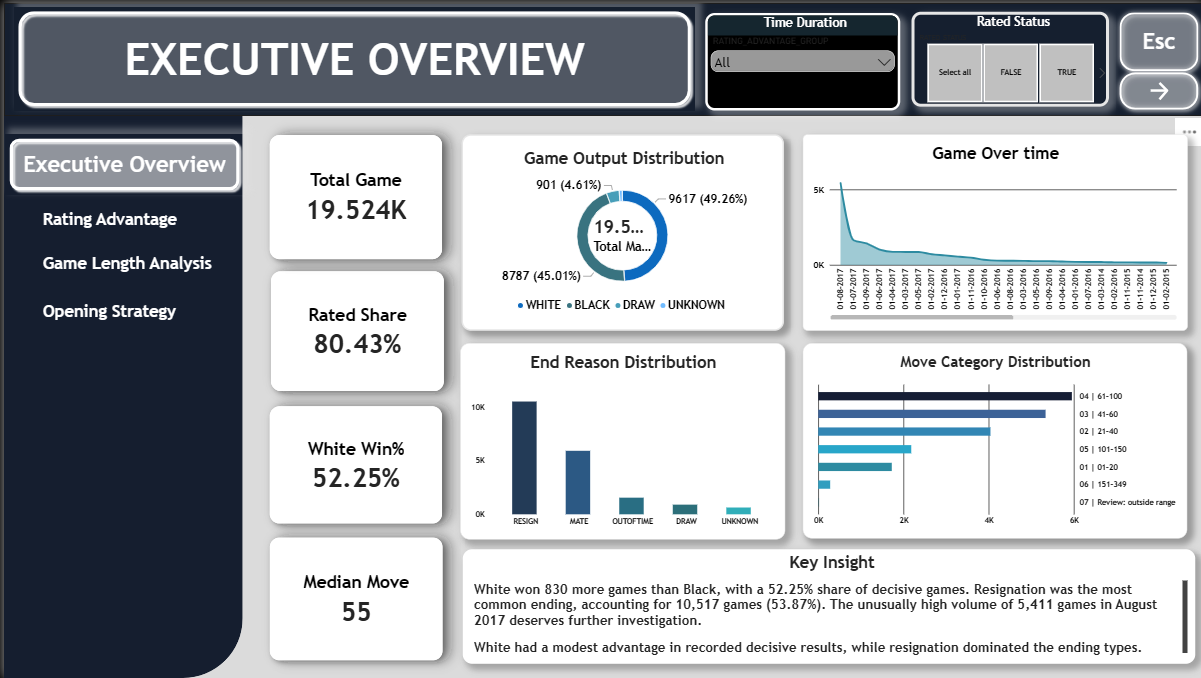

What the dashboard file says about the page in this screenshot:
{"tool":"powerbi","page":{"name":"EXECUTIVE_OVERVIEW","canvas":[1920,1080],"ordinal":0},"visuals":[{"type":"shape","box":[0,0,256.7,1080],"z":0},{"type":"shape","box":[0,0,382,1080],"z":1000},{"type":"shape","box":[0,0,1921.1,181.1],"z":2000},{"type":"textbox","box":[46,48,1096,88],"z":3000},{"type":"textbox","box":[62,330,246,38],"z":4000},{"type":"textbox","box":[62,400,304,40],"z":5000},{"type":"textbox","box":[62,478,278,46],"z":6000},{"type":"slicer","title":"Time Duration","fields":{"Values":["EDA_Base.RATING_ADVANTAGE_GROUP"]},"box":[1122,16,312,156],"z":7000},{"type":"slicer","title":"Rated Status","fields":{"Values":["EDA_Base.RATED_STATUS"]},"box":[1452,14,316,152],"z":8000},{"type":"cardVisual","title":"Rated Share","fields":{"Data":["EDA_Base.RATED_SHARE"]},"box":[397.5,400,335.7,250],"z":9000},{"type":"cardVisual","title":"Rated Share","fields":{"Data":["CountNonNull(EDA_Base.GAME_ID)"]},"box":[395.7,181.4,334.3,257.1],"z":10000},{"type":"cardVisual","title":"Rated Share","fields":{"Data":["EDA_Base.WHITE_WIN_PERCENTAGE"]},"box":[395,615,334,246],"z":11000},{"type":"cardVisual","title":"Rated Share","fields":{"Data":["EDA_Base.MEDIAN_MOVE_COUNT"]},"box":[395,825,335,255],"z":12000},{"type":"donutChart","title":"Game Output Distribution","fields":{"Category":["EDA_Base.WINNER"],"Y":["CountNonNull(EDA_Base.GAME_ID)"]},"box":[732.5,210,516,314],"z":13000},{"type":"lineChart","title":"Game Over time","fields":{"Category":["EDA_Base.GAME_MONTH"],"Y":["CountNonNull(EDA_Base.GAME_ID)"]},"box":[1277.1,210,615.7,314.3],"z":14000},{"type":"columnChart","title":"End Reason Distribution","fields":{"Category":["EDA_Base.END_REASON"],"Y":["CountNonNull(EDA_Base.GAME_ID)"]},"box":[730,544.3,520,314.3],"z":15000},{"type":"barChart","title":"Move Category Distribution","fields":{"Category":["EDA_Base.MOVE_COUNT_GROUP"],"Y":["CountNonNull(EDA_Base.GAME_ID)"]},"box":[1278.3,543.3,615,312.5],"z":16000},{"type":"shape","box":[1776,6,144,112],"z":18000},{"type":"actionButton","box":[1776.2,102.5,143.8,77.5],"z":19000},{"type":"shape","box":[2,210,381.7,96.7],"z":20000},{"type":"shape","box":[16,6,1090,166],"z":21000},{"type":"shape","title":"Key Insight","box":[733.3,873.3,1171.7,183.3],"z":22000},{"type":"textbox","box":[751.7,923.3,1141.7,133.3],"z":23000}]}

Visuals, with their boxes in screenshot pixels (x1, y1, x2, y2), scaled from the page's 1920x1080 canvas onto the 1201x678 screenshot:
shape: select_region(0, 0, 161, 677)
shape: select_region(0, 0, 239, 677)
shape: select_region(0, 0, 1200, 114)
textbox: select_region(29, 30, 714, 85)
textbox: select_region(39, 207, 193, 231)
textbox: select_region(39, 251, 229, 276)
textbox: select_region(39, 300, 213, 329)
"Time Duration" slicer: select_region(702, 10, 897, 108)
"Rated Status" slicer: select_region(908, 9, 1106, 104)
"Rated Share" cardVisual: select_region(249, 251, 459, 408)
"Rated Share" cardVisual: select_region(248, 114, 457, 275)
"Rated Share" cardVisual: select_region(247, 386, 456, 541)
"Rated Share" cardVisual: select_region(247, 518, 457, 677)
"Game Output Distribution" donutChart: select_region(458, 132, 781, 329)
"Game Over time" lineChart: select_region(799, 132, 1184, 329)
"End Reason Distribution" columnChart: select_region(457, 342, 782, 539)
"Move Category Distribution" barChart: select_region(800, 341, 1184, 537)
shape: select_region(1111, 4, 1200, 74)
actionButton: select_region(1111, 64, 1200, 113)
shape: select_region(1, 132, 240, 193)
shape: select_region(10, 4, 692, 108)
"Key Insight" shape: select_region(459, 548, 1192, 663)
textbox: select_region(470, 580, 1184, 663)
